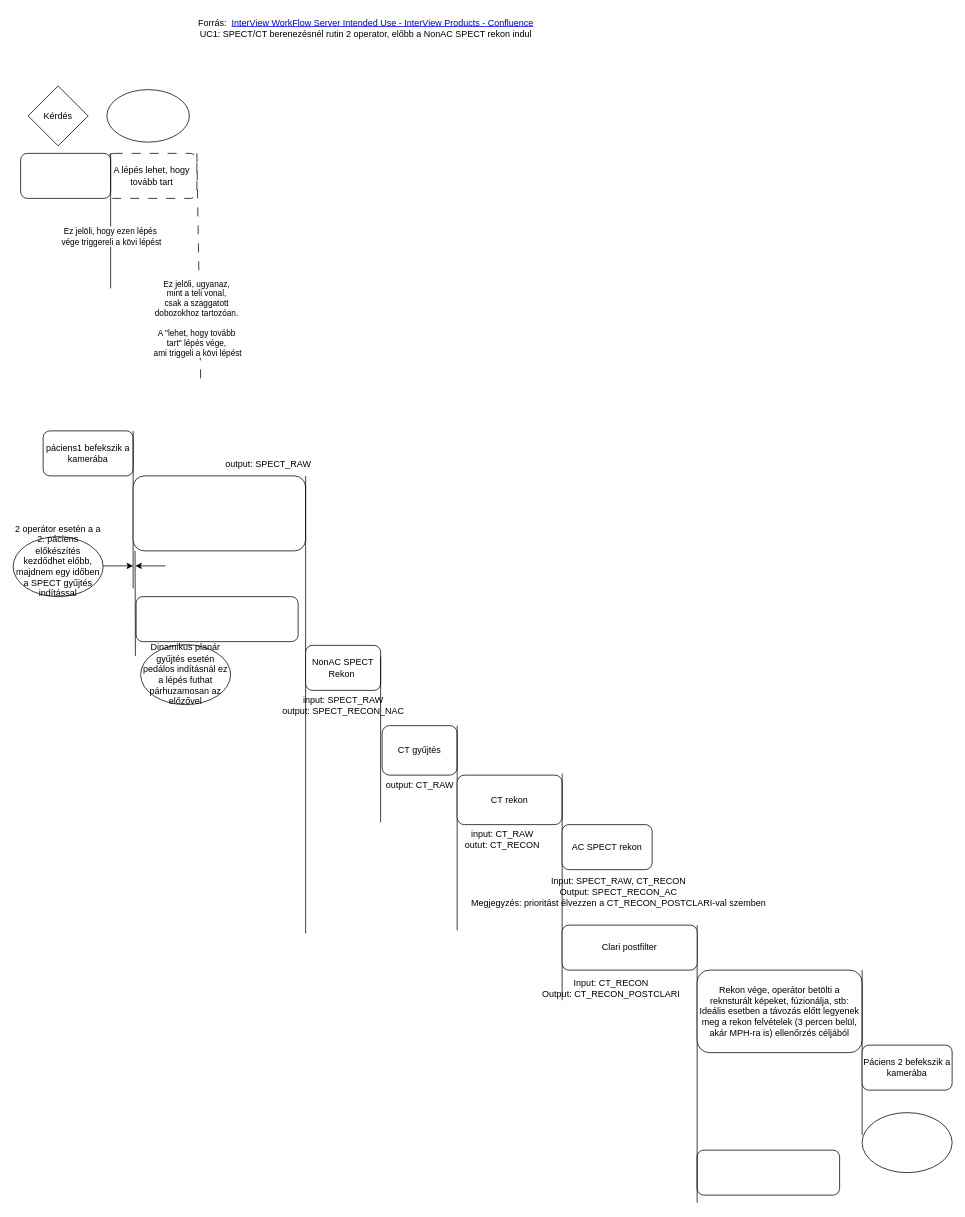
The diagram is 965 pixels wide and 1217 high, and some of its shapes have lost their labels. The shapes that lost their labels are listed below. From the top down, each one's box as (x1, y1, x2, y2) in pixels, then its label:
(106, 89, 189, 142): Info, magyarázat
(20, 153, 111, 198): Lépés
(132, 475, 306, 551): operátor elindítja a SPECT gyűjtést
(135, 596, 298, 642): operátor előkészíti a páciens2-t (adattok felvétele)
(861, 1112, 952, 1173): 2 operátor esetén a Páciens 2 előbb befekhet a kamerába
(696, 1149, 840, 1195): Páciens1 távozik
